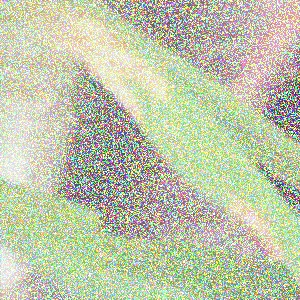Brown_Spot: (34, 11, 176, 125), (213, 180, 293, 264)
